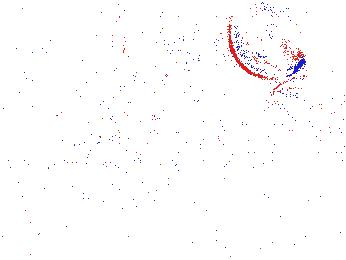moon jellyfish: (122, 1, 221, 87), (228, 1, 304, 81), (91, 98, 163, 176), (271, 74, 346, 125)
